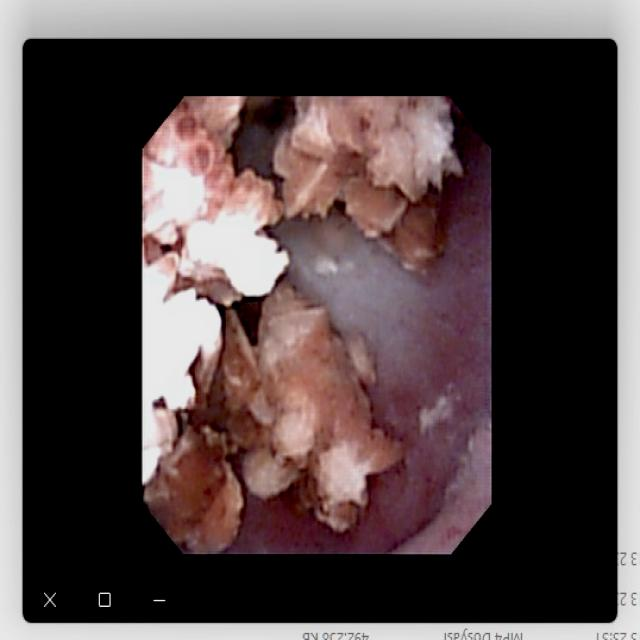stone: (147, 102, 291, 477), (210, 284, 401, 531), (280, 104, 462, 275), (149, 429, 236, 545)
